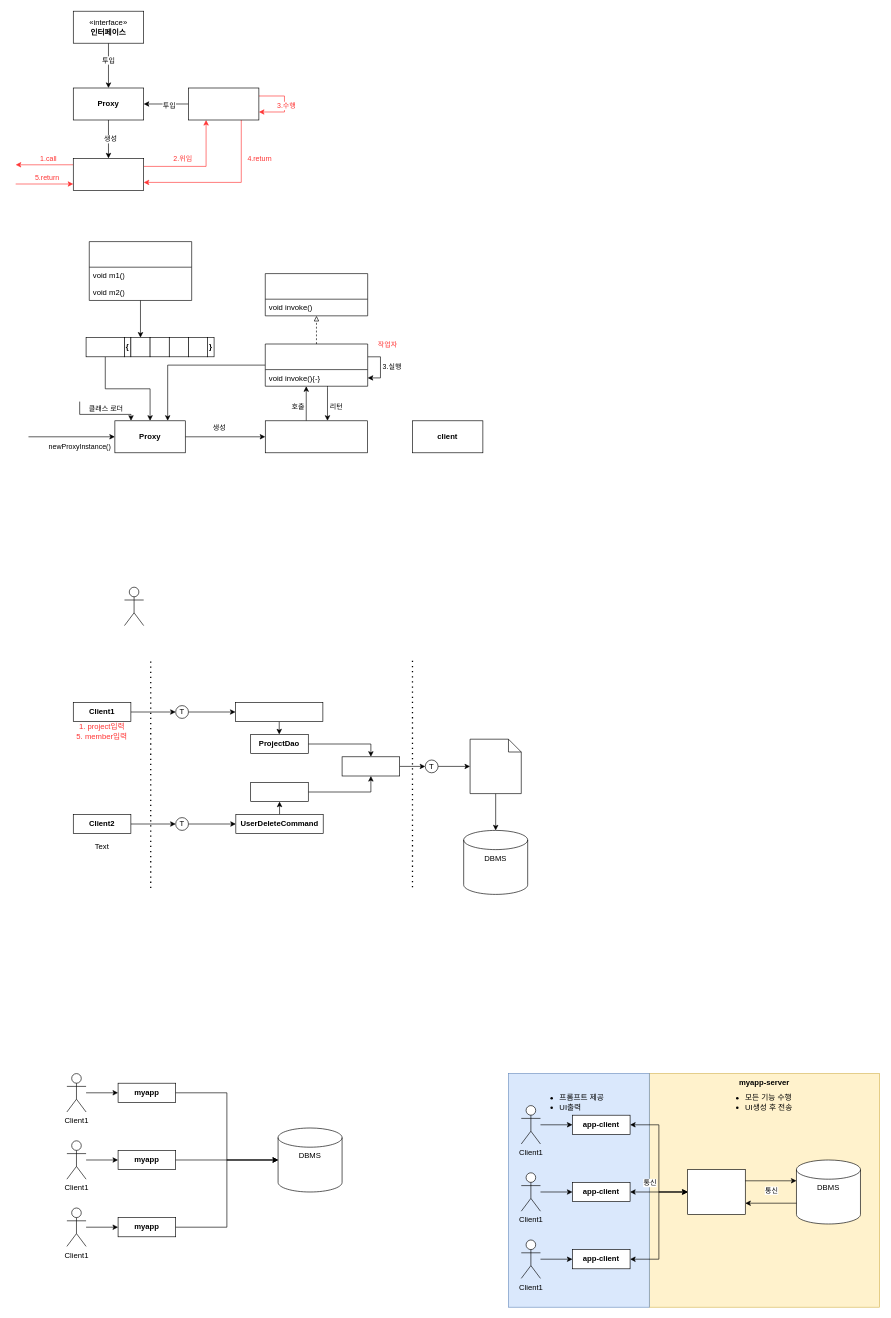
The diagram is 891 pixels wide and 1318 high, and some of its shapes have lost their labels. Each missing label, with the box of its shape:
<<concrete>> MyInvocationHandler: (265, 343, 368, 386)
<<interface>> InvocationHandler: (265, 273, 368, 316)
<<interface>> MyInterface: (89, 241, 192, 300)
app-server: (687, 1169, 745, 1214)
Cache: (469, 739, 521, 794)
class[]: (85, 337, 124, 357)
Lee: (124, 587, 144, 626)
myapp-client: (508, 1073, 649, 1307)
projectAddCommand: (235, 702, 323, 722)
SqlSession: (341, 756, 400, 776)
UserDao: (250, 782, 308, 802)
Worker: (188, 87, 259, 120)
«Concrete» MyInterface 구현체: (265, 420, 368, 453)
«Concrete» 구현체: (73, 158, 144, 190)
